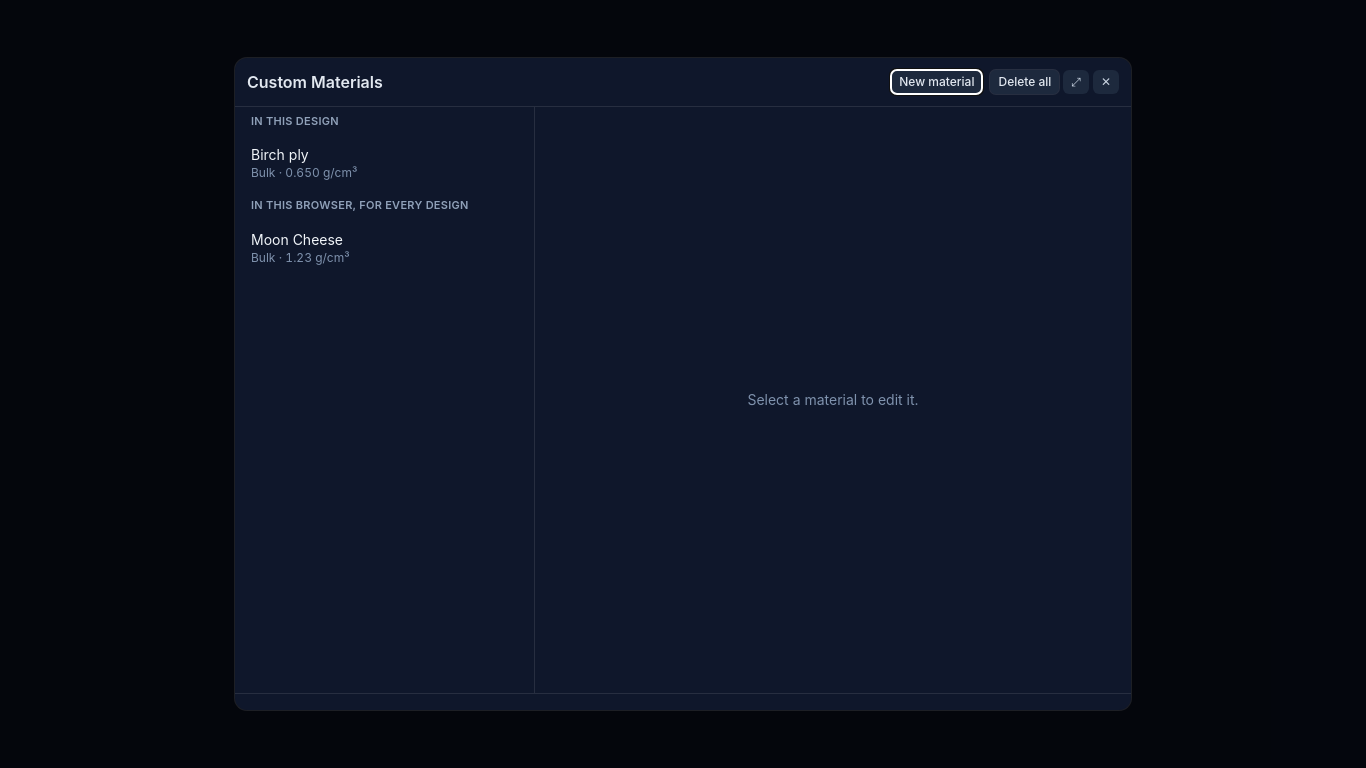
Test case: Custom Materials › names the parts made of the selected material
Step 1. Click the button "Birch ply Bulk · 0.650 g/cm³" → click(280, 155), box [235,135,534,191]
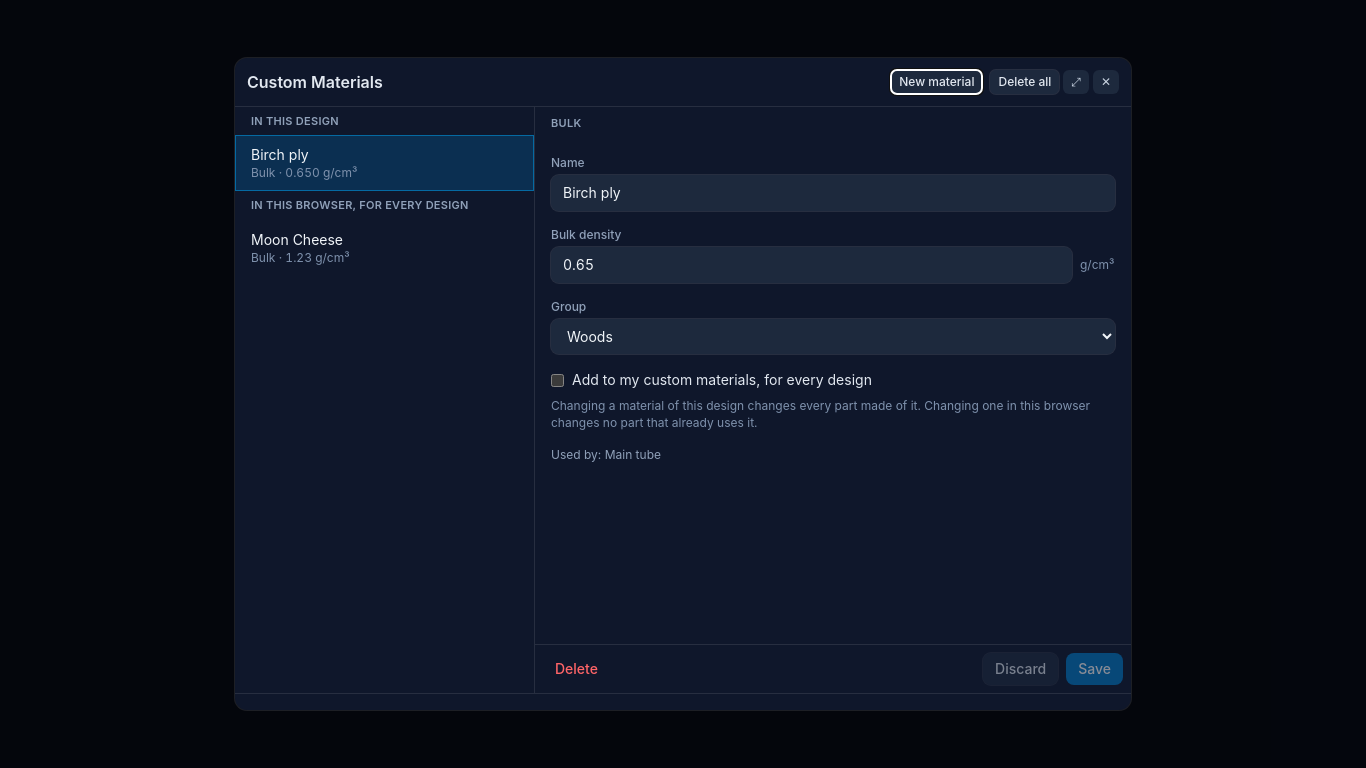
Expected: the text "Used by: Main tube" is shown, [551,447,661,462]
